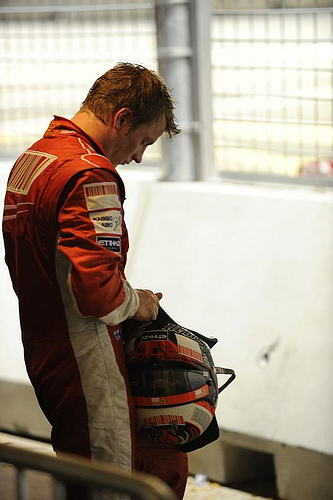helmet: (125, 316, 231, 444)
